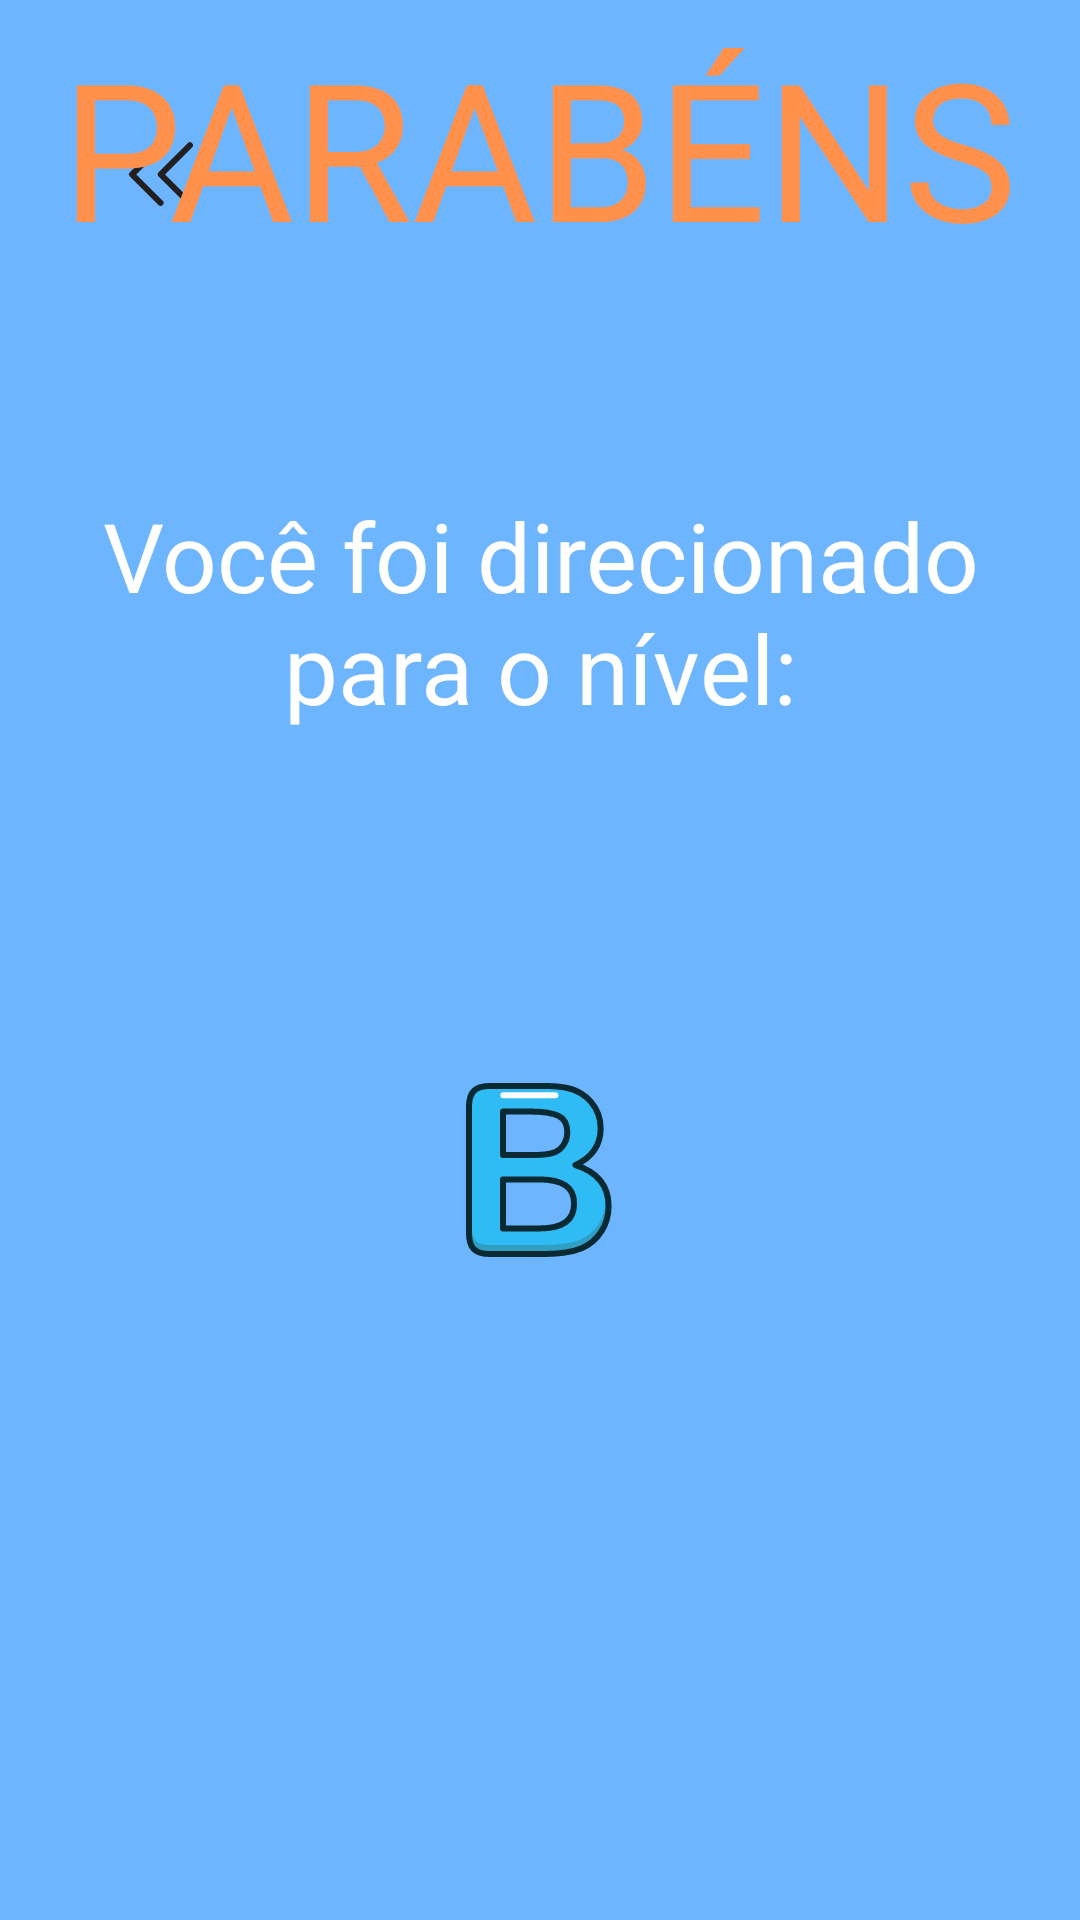

Icons on this 1080 x 1920 Android screen, each with the point to tap as (x,y):
nivelb: (539,1170)
